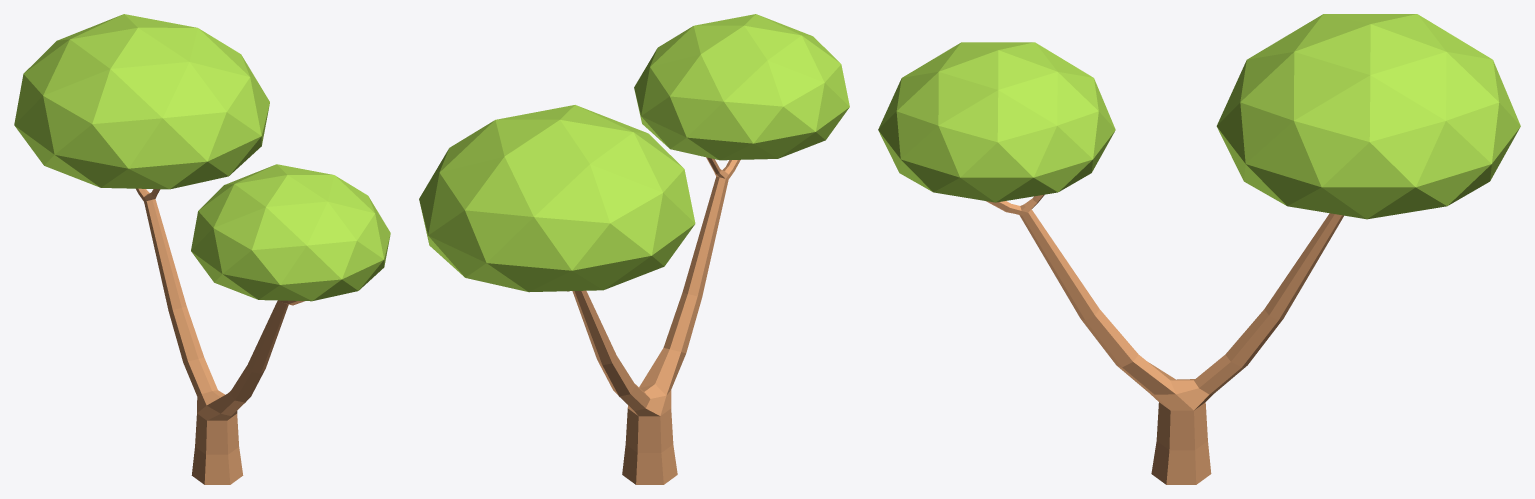
File: tree_broad_2.glb
3 renders of one model, left to right at view 1: azimuth 30°, elevation 25°; view 2: azimuth 150°, elevation 25°; view 3: azimuth 270°, elevation 25°, orthographic. The views are drawn at different scales.
Parts seen in each view (by area): view 1: Icosphere.001; view 2: Icosphere.001; view 3: Icosphere.001.
Boxes of the visible parts, x1=… form: Icosphere.001: x1=14, y1=14, x2=390, y2=484; Icosphere.001: x1=419, y1=14, x2=849, y2=484; Icosphere.001: x1=878, y1=14, x2=1520, y2=484.
Size of the model in its own units: 2.62 by 4.5 by 5.81.
